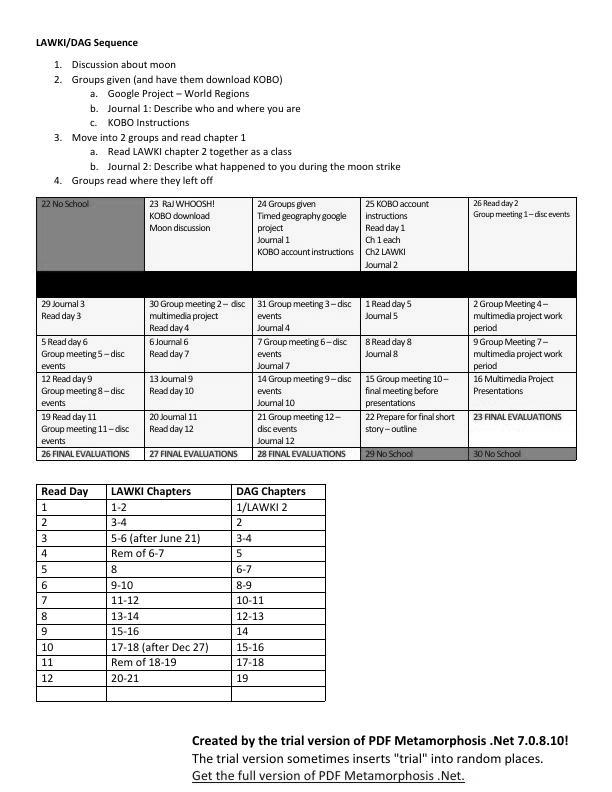table: (33, 194, 581, 466), (32, 481, 329, 705)
text: (49, 58, 404, 187), (185, 730, 575, 787), (31, 35, 142, 50)
